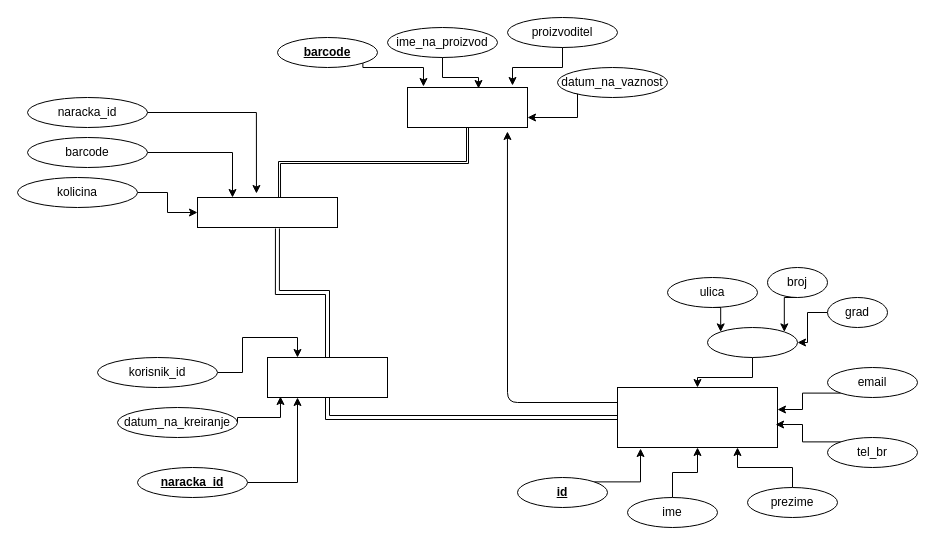
Image size: 935x545. Some labels were removed from this diagram. Here are the shapes that lost their labels. From the top down, the box of each, then its label:
(406, 86, 528, 128): proizvod
(196, 196, 338, 228): naracan_proizvod
(706, 326, 798, 358): adresa
(266, 356, 388, 398): naracka
(616, 386, 778, 448): korisnik
